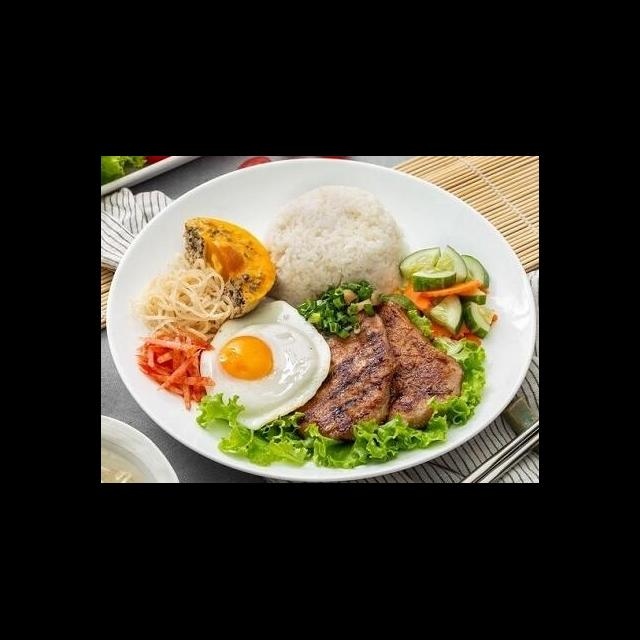bi: (284, 174, 416, 258)
cha: (167, 229, 350, 329)
com: (325, 278, 503, 388)
com suon bi cha trung: (128, 183, 509, 465)
dua chua: (283, 373, 377, 449)
suon: (154, 296, 348, 428)
trung: (315, 217, 460, 290)
